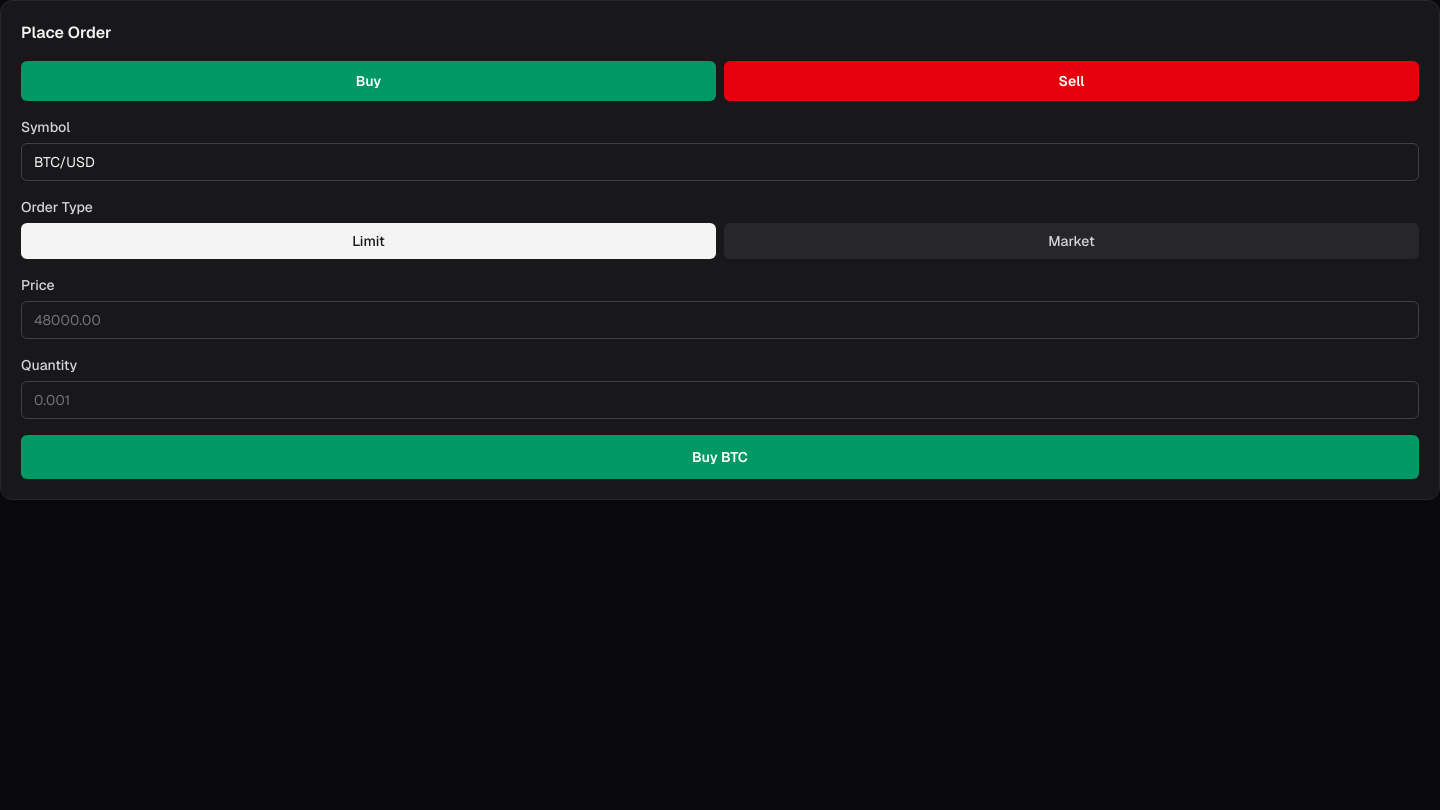
Scenario: OrderForm › shows a validation error for an invalid quantity
Step 1. Type "48000" into the number field labelled "Price" → coordinates (720, 320), box [21, 301, 1419, 339]
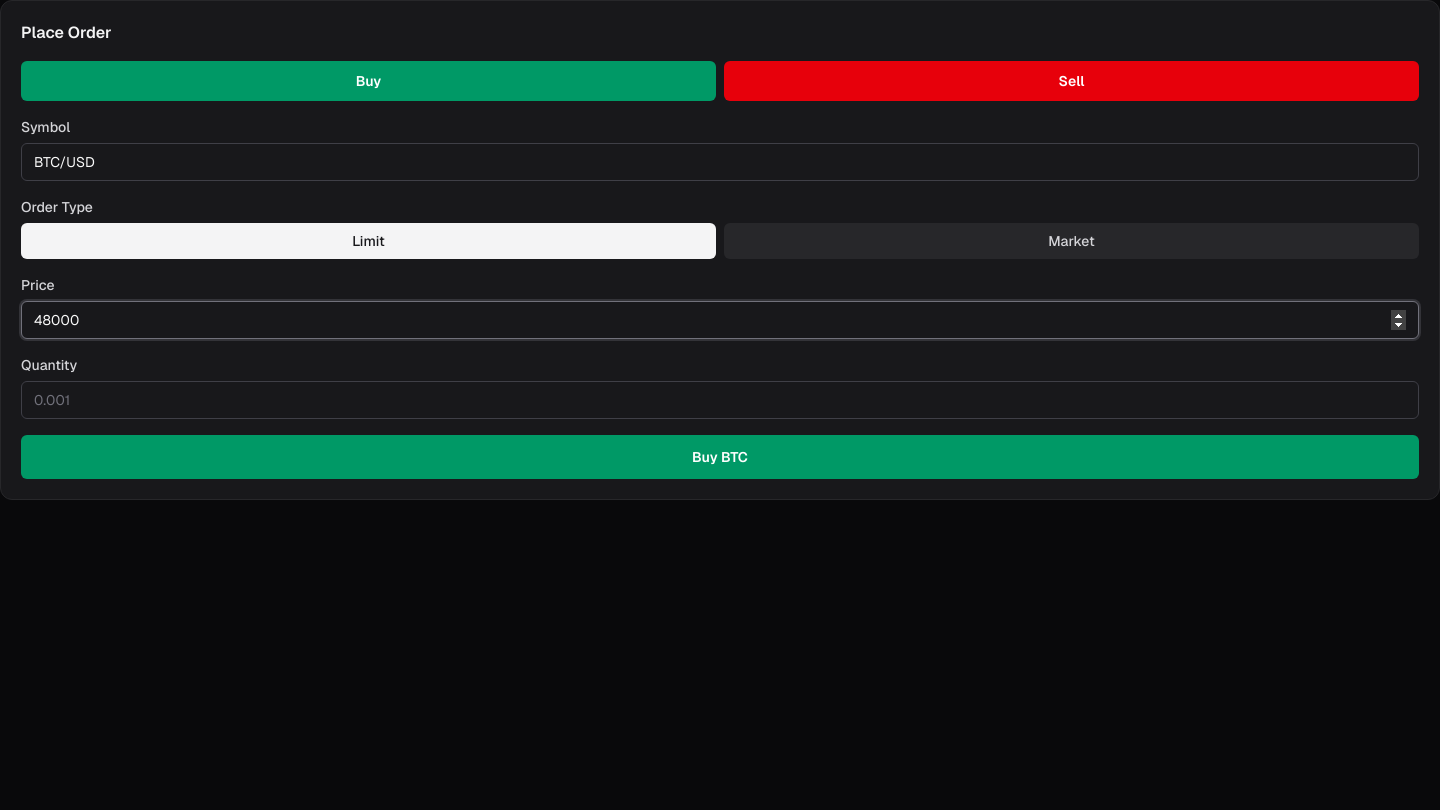
Step 2. Type "0" into the number field labelled "Quantity" → coordinates (720, 400), box [21, 381, 1419, 419]
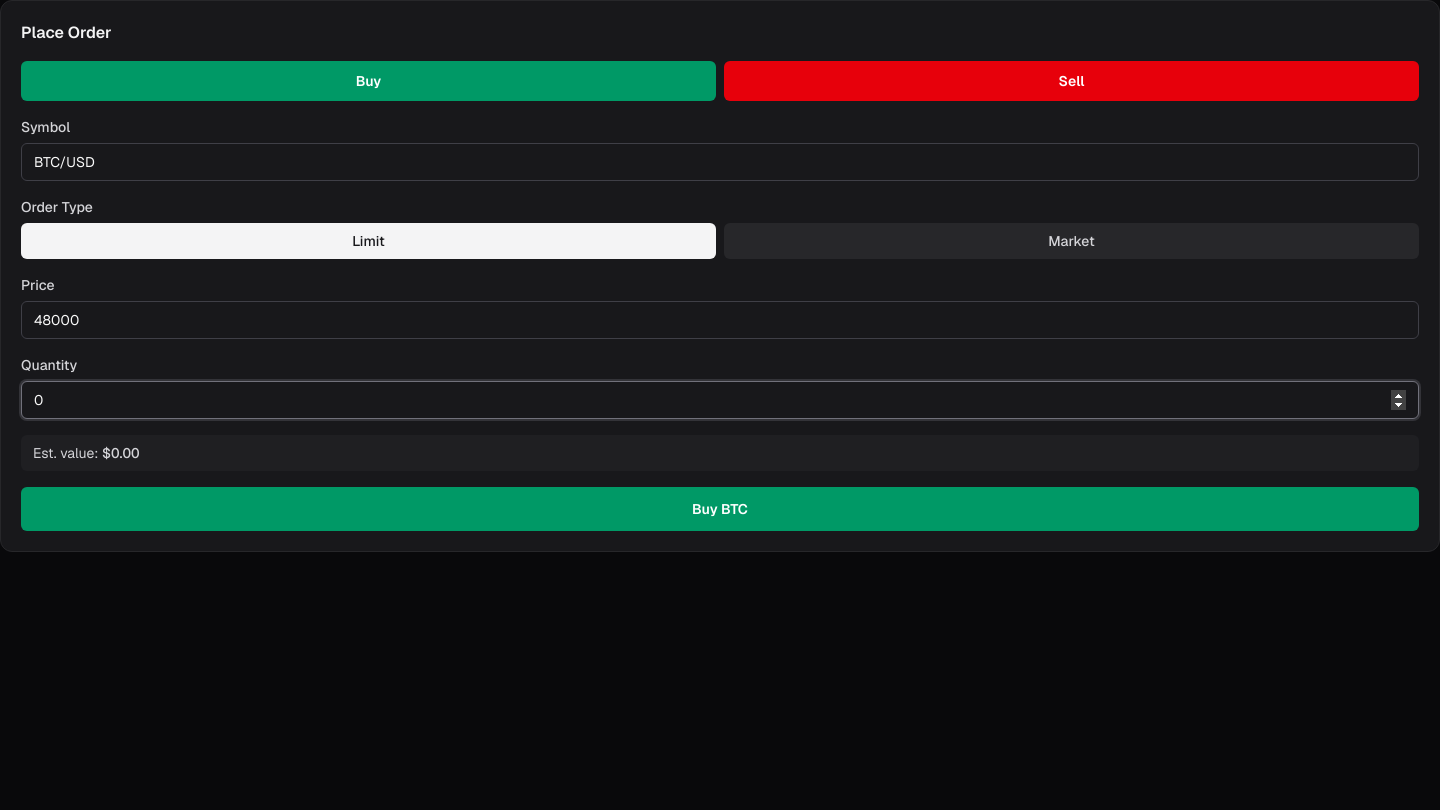
Step 3. Click the button "Buy BTC" → coordinates (720, 509), box [21, 487, 1419, 531]
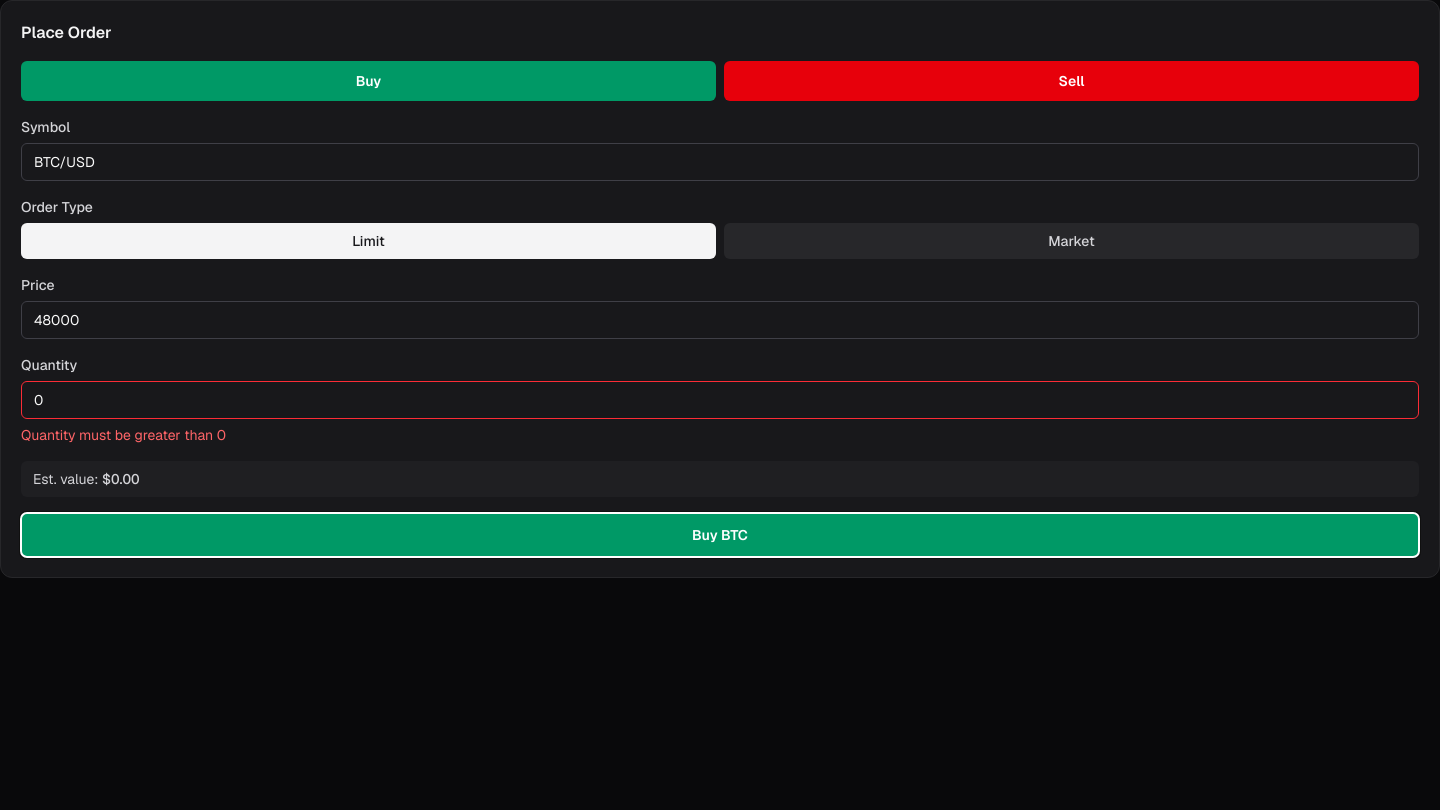
Expected: the text "Quantity must be greater than 0" is shown, [21, 426, 226, 444]
